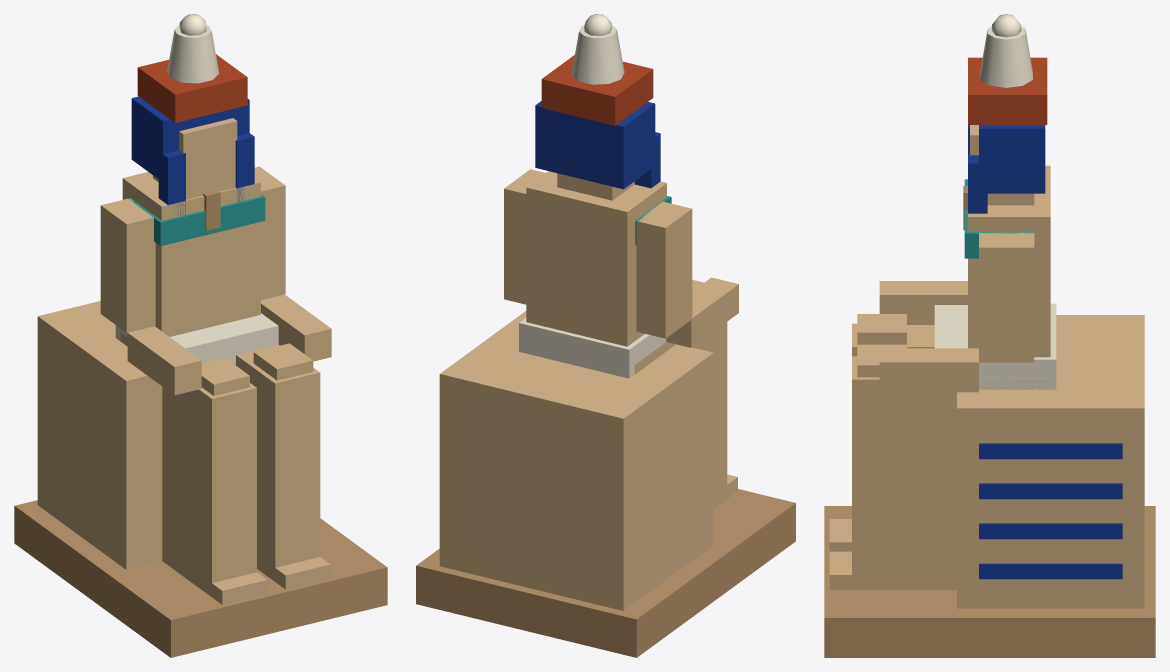
The model's file is eg_statue_pharaoh.glb.
3 renders of one model, left to right at view 1: azimuth 30°, elevation 25°; view 2: azimuth 150°, elevation 25°; view 3: azimuth 270°, elevation 25°, orthographic. The views are drawn at different scales.
Visible parts, largest first — view 1: eg_statue_pharaoh; view 2: eg_statue_pharaoh; view 3: eg_statue_pharaoh.
Part boxes in pixels (bbox=[...]): eg_statue_pharaoh: bbox=[14, 14, 387, 657]; eg_statue_pharaoh: bbox=[416, 14, 795, 657]; eg_statue_pharaoh: bbox=[824, 14, 1155, 657].
Size of the model in its own units: 2.4 by 5.86 by 3.
